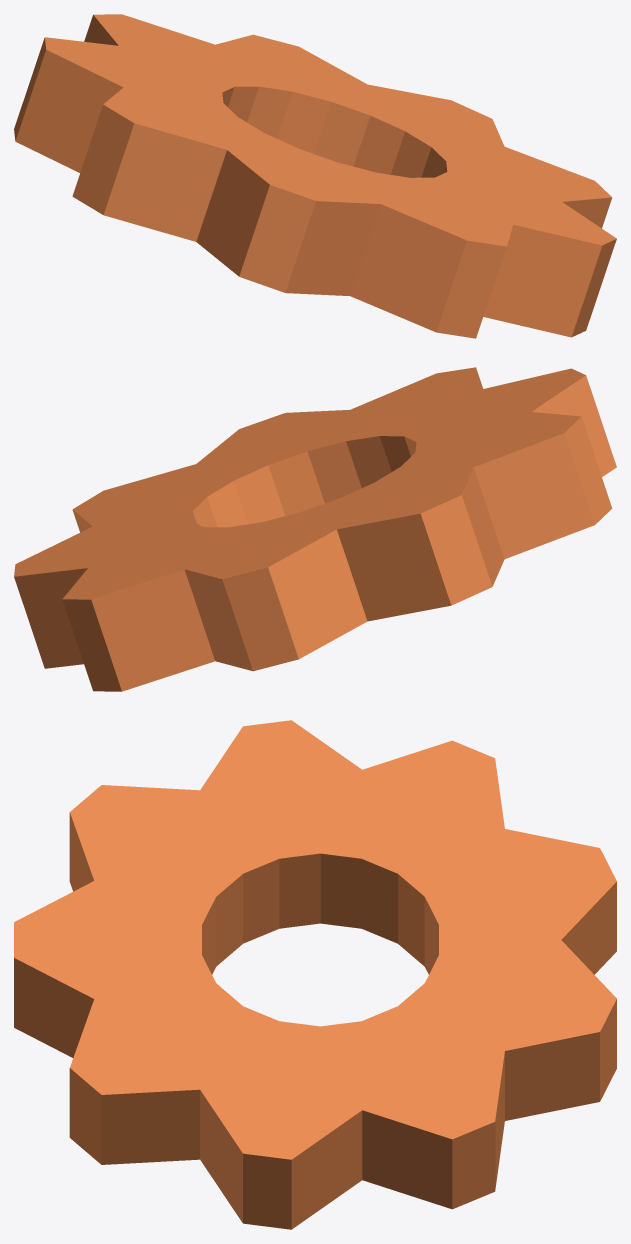
File: Geargeo2.fbx
3 renders of one model, top to bottom at view 1: azimuth 30°, elevation 25°; view 2: azimuth 150°, elevation 25°; view 3: azimuth 270°, elevation 25°, orthographic.
Visible parts, largest first — view 1: Gear2; view 2: Gear2; view 3: Gear2.
Boxes of the visible parts, <box> form: Gear2: <box>14,14,616,338</box>; Gear2: <box>14,367,616,691</box>; Gear2: <box>14,720,616,1229</box>.
Bounding box in the file's own units: 69.51 × 35.7 × 68.95.
